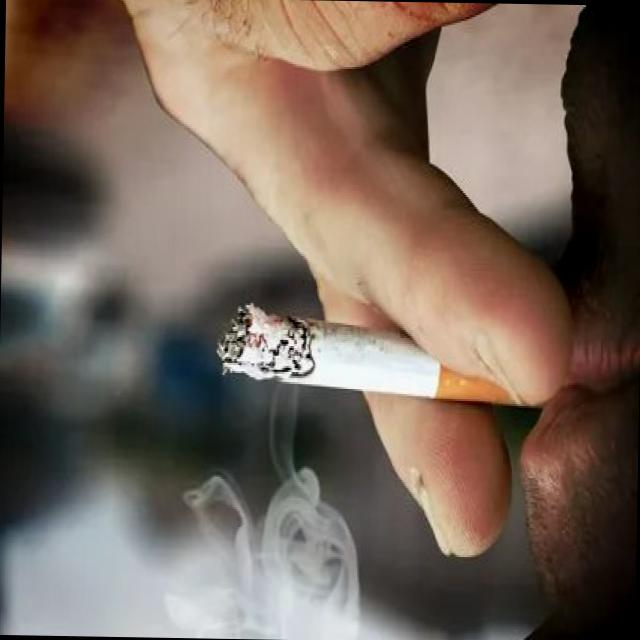cigarette: (211, 296, 555, 420)
